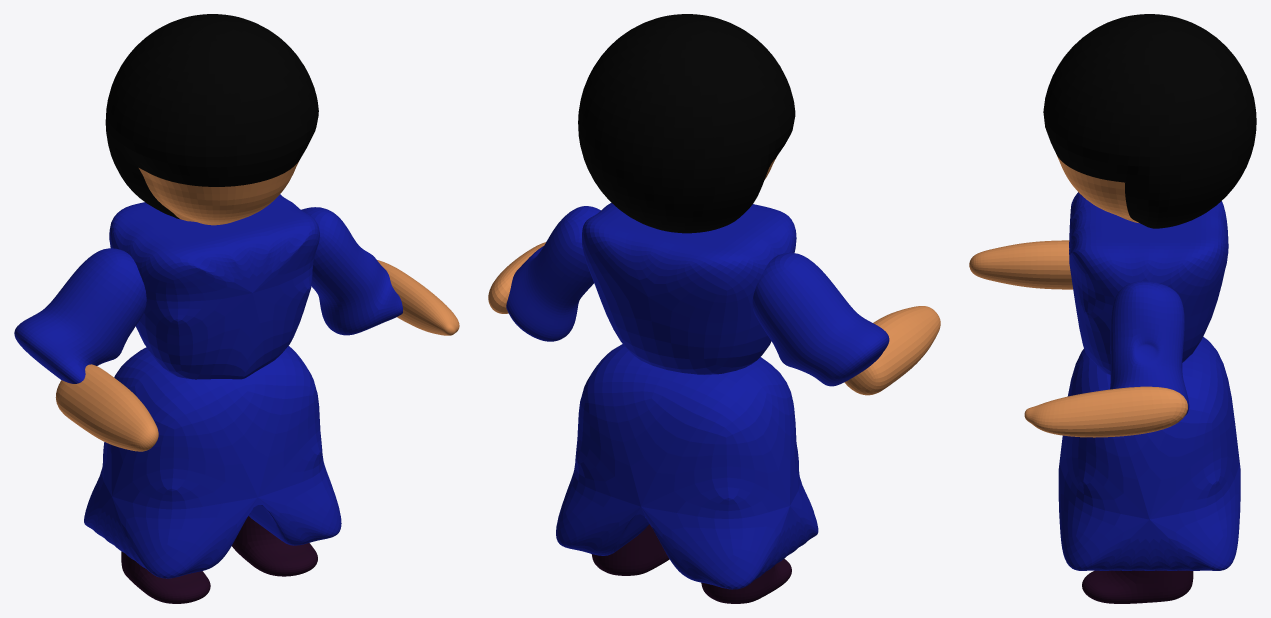
The model's file is habitantes 1.fbx.
The picture shows the model from 3 angles, left to right: view 1: azimuth 30°, elevation 25°; view 2: azimuth 150°, elevation 25°; view 3: azimuth 270°, elevation 25°; orthographic projection. The views are drawn at different scales.
Visible parts, largest first — view 1: Cube.001, Sphere, Cube, Cylinder.002, Cylinder.001, Cylinder.006, Cylinder.004, Cylinder.007, Cylinder.005; view 2: Cube.001, Sphere, Cube, Cylinder.002, Cylinder.001, Cylinder.006, Cylinder.004, Cylinder.005, Cylinder.007; view 3: Sphere, Cube.001, Cube, Cylinder.001, Cylinder.007, Cylinder.006, Cylinder.004.
Boxes of the visible parts, bbox=[...] form: Cube.001: bbox=[84, 346, 341, 578]; Sphere: bbox=[105, 14, 318, 225]; Cube: bbox=[109, 194, 319, 379]; Cylinder.002: bbox=[14, 248, 146, 383]; Cylinder.001: bbox=[301, 207, 402, 335]; Cylinder.006: bbox=[55, 364, 158, 451]; Cylinder.004: bbox=[232, 516, 317, 576]; Cylinder.007: bbox=[377, 260, 459, 335]; Cylinder.005: bbox=[121, 551, 210, 603]; Cube.001: bbox=[556, 344, 818, 589]; Sphere: bbox=[578, 14, 795, 233]; Cube: bbox=[582, 203, 796, 374]; Cylinder.002: bbox=[752, 252, 889, 386]; Cylinder.001: bbox=[506, 206, 600, 341]; Cylinder.006: bbox=[844, 306, 940, 395]; Cylinder.004: bbox=[591, 524, 669, 575]; Cylinder.005: bbox=[701, 559, 791, 603]; Cylinder.007: bbox=[488, 242, 545, 313]; Sphere: bbox=[1043, 14, 1256, 228]; Cube.001: bbox=[1058, 336, 1240, 570]; Cube: bbox=[1069, 192, 1228, 374]; Cylinder.001: bbox=[1110, 281, 1189, 415]; Cylinder.007: bbox=[1024, 386, 1187, 437]; Cylinder.006: bbox=[969, 240, 1073, 289]; Cylinder.004: bbox=[1082, 570, 1193, 603].
Size of the model in its own units: 46 by 61.95 by 29.54.
